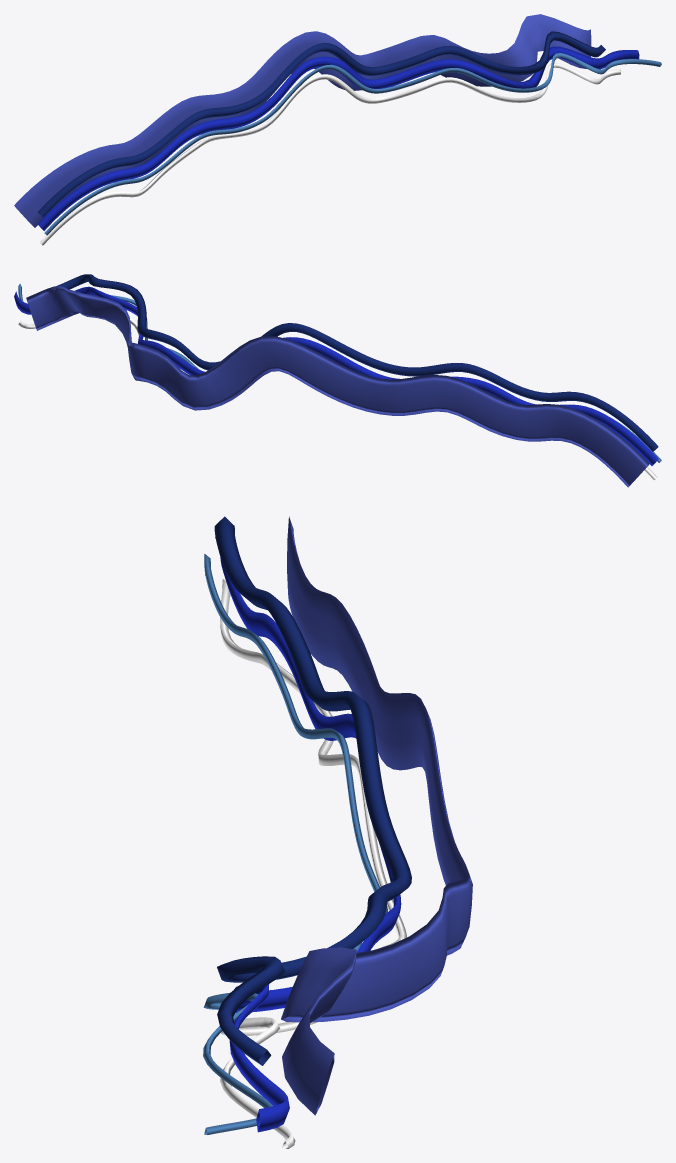
Rendered from rio-05.glb.
3 views of the same model, one above another, from view 1: azimuth 30°, elevation 25°; view 2: azimuth 150°, elevation 25°; view 3: azimuth 270°, elevation 25° (orthographic). The views are drawn at different scales.
Visible parts, largest first — view 1: rio-02; view 2: rio-02; view 3: rio-02.
Part boxes in pixels (x1,y1,x2,y2): rio-02: [14, 14, 661, 245]; rio-02: [14, 274, 661, 487]; rio-02: [203, 516, 472, 1148].
Bounding box in the file's own units: 28.07 × 4.31 × 5.23.
